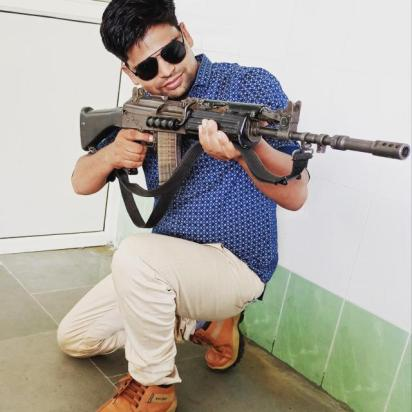Gun: (77, 85, 412, 191)
